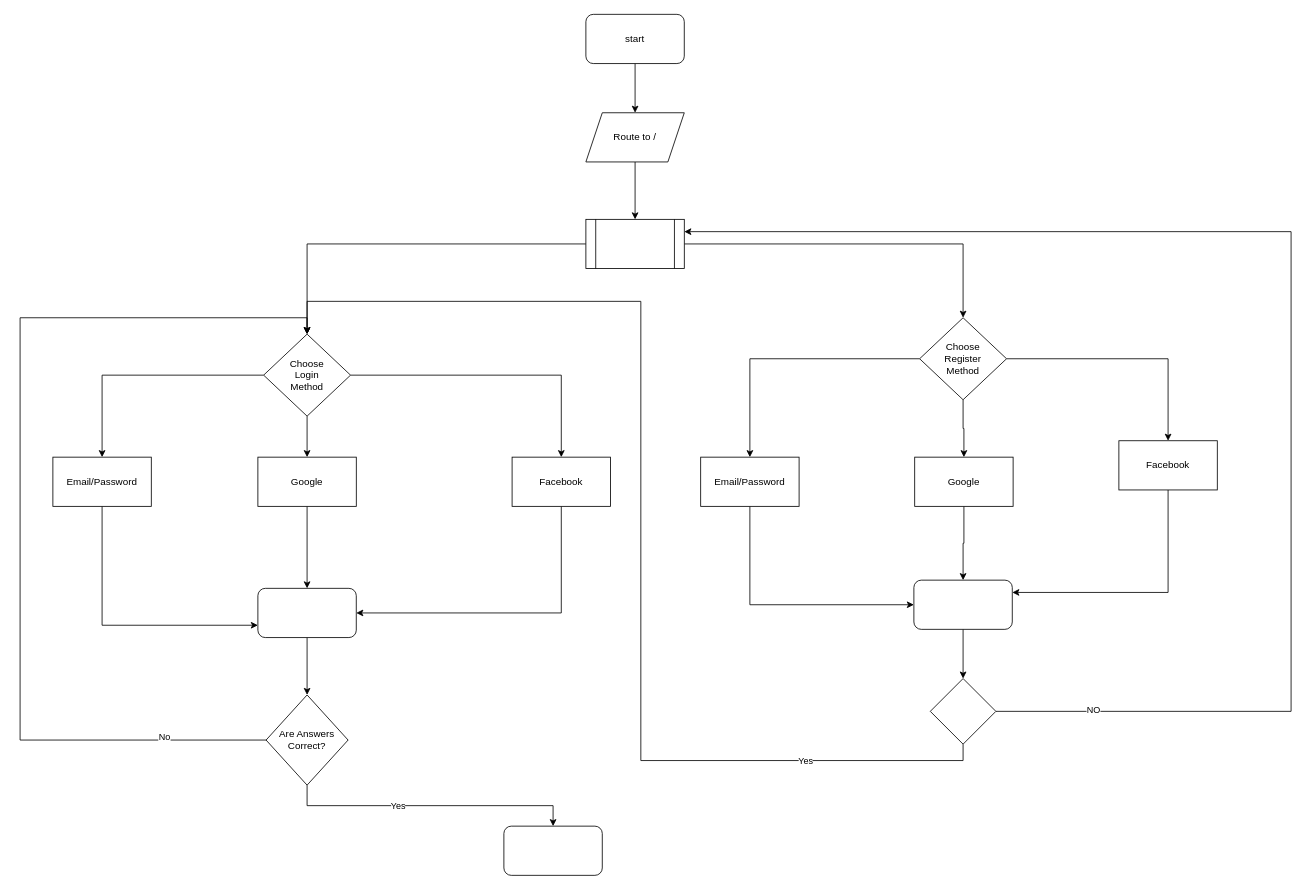
The diagram is 1312 pixels wide and 890 high, and some of its shapes have lost their labels. Each missing label, with the box of its shape:
Give Security Question's Answer: (257, 588, 356, 638)
isSuccess: (929, 678, 996, 744)
Login/SignUp Screen: (585, 219, 684, 269)
Route to User management module: (503, 825, 602, 875)
Set Security Question and Answer: (913, 579, 1012, 629)
